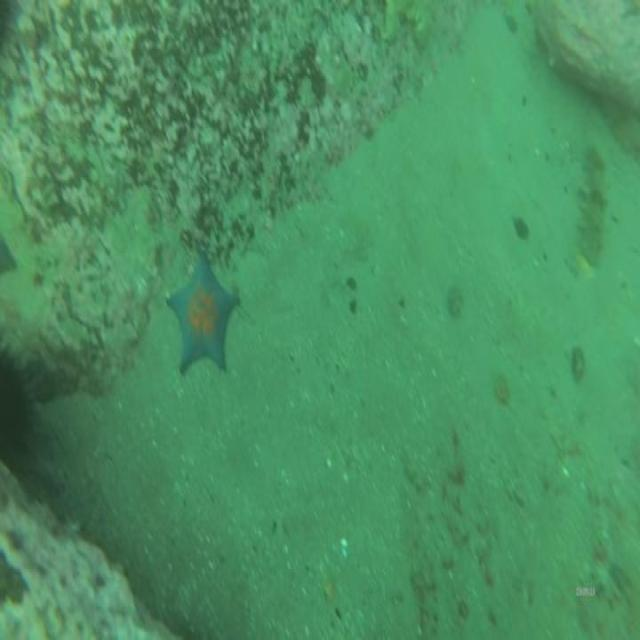holothurian: (580, 138, 606, 268), (412, 550, 438, 640), (381, 0, 431, 41)
starfish: (164, 256, 243, 381)
